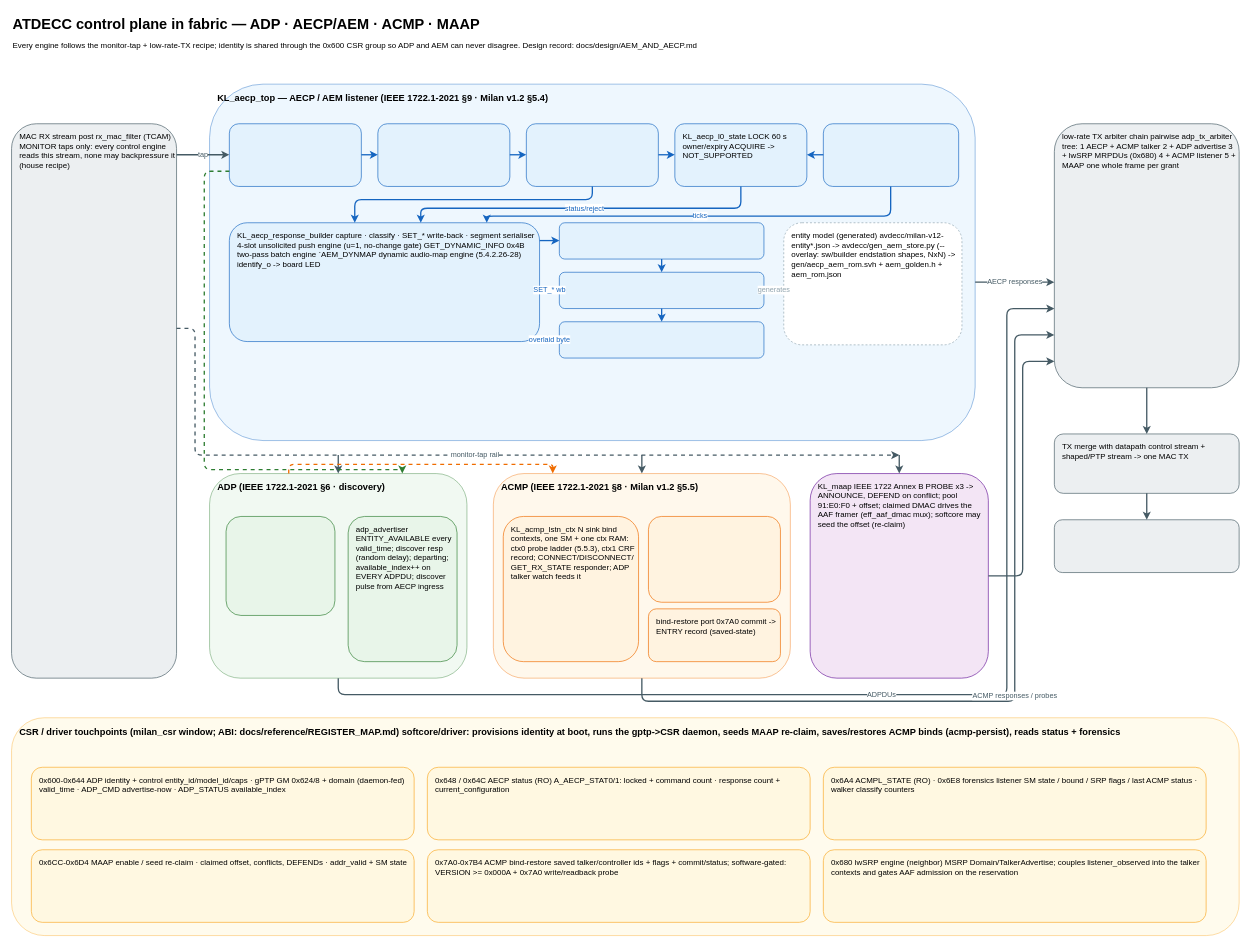
Some shapes in this 1251 by 947 pixel diagram are drawn without their labels. The centre of each missing label's shape, as x and y in pixels:
KL_acmp_tlkr_ctx N source contexts: PROBE_TX SM, 15 s window, live params: [714,559]
KL_adp_parser RX: ENTITY_AVAILABLE / DEPARTING / DISCOVER decode (82-B rule): [280,565]
KL_aecp_accessor directory (type,index) -> {base,len}: [661,240]
KL_aecp_aem_dyn_mux live-field read overlay: [661,339]
KL_aecp_aem_store generated ROM + write-back RAM: [661,290]
KL_aecp_common_parser header struct, entity_id match on the first beat: [592,154]
KL_aecp_ingress AECP-for-us / discover filter store-and-forward, src MAC: [295,154]
KL_aecp_packet_validator drop bad message_type / control_data_length < 12: [443,154]
KL_aecp_timers 1 kHz tick · lock expiry counter-push 1/s throttle: [891,154]
MAC TX MilanMAC -> PHY: [1146,546]
